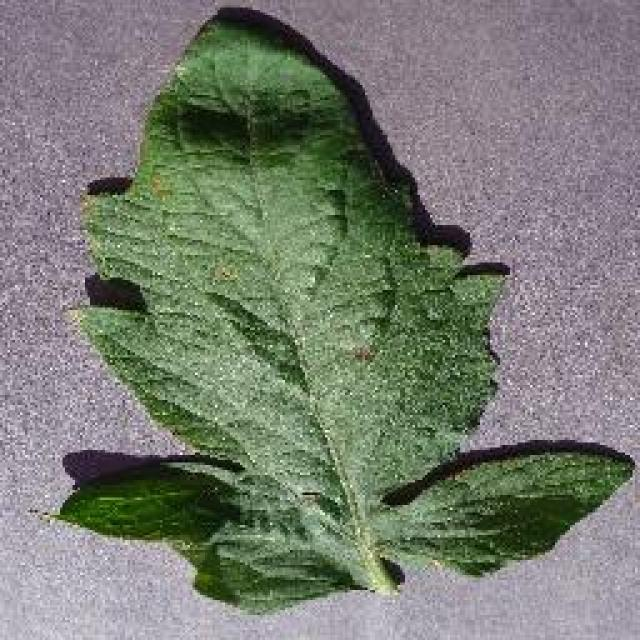Tomato___Target_Spot: (58, 20, 628, 610)
